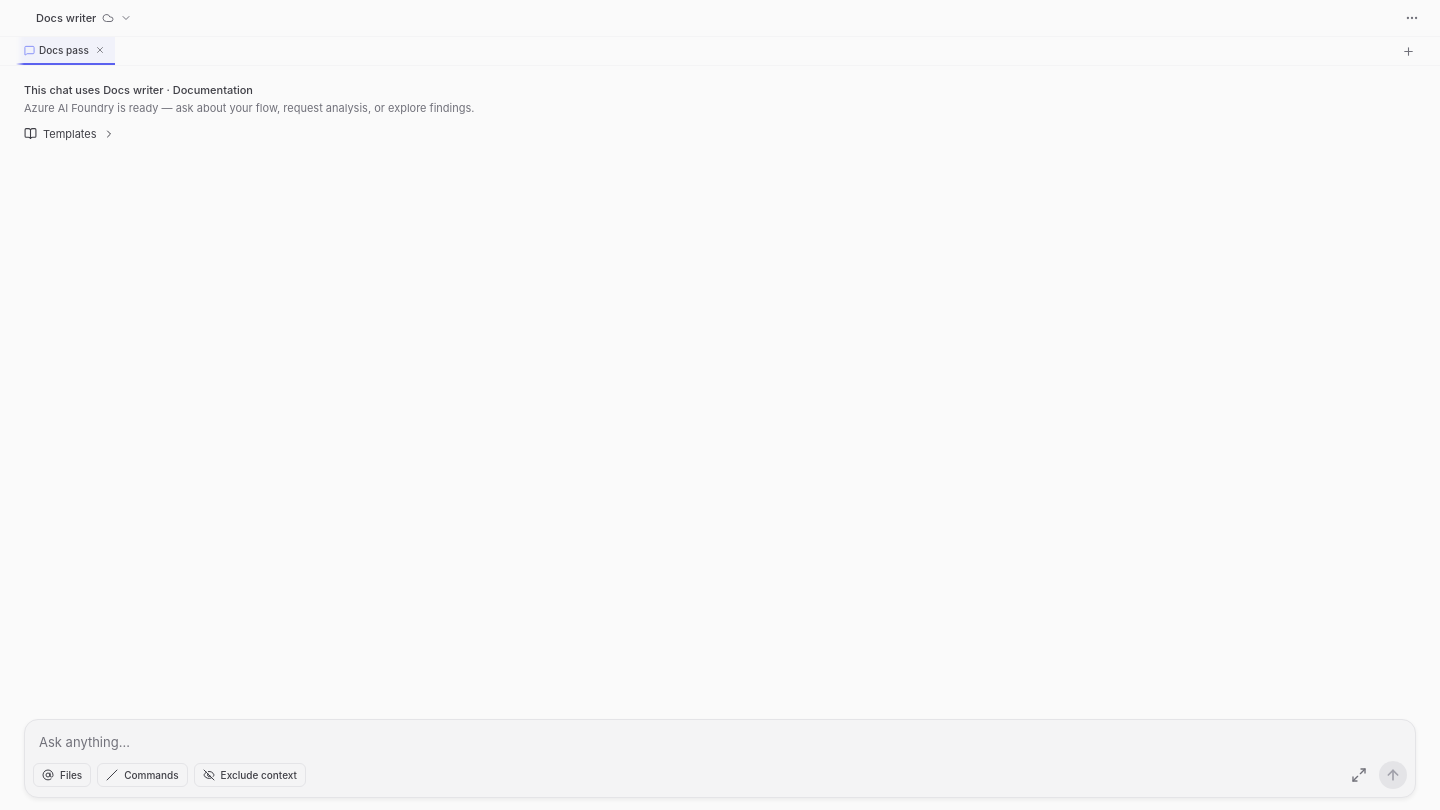
Test: AITab per-thread model › starts a new thread on the Default for new chats; each tab's tooltip names its own model
Click the button named "New chat thread": click(1408, 51) top-left (1396, 39), bottom-right (1420, 63)
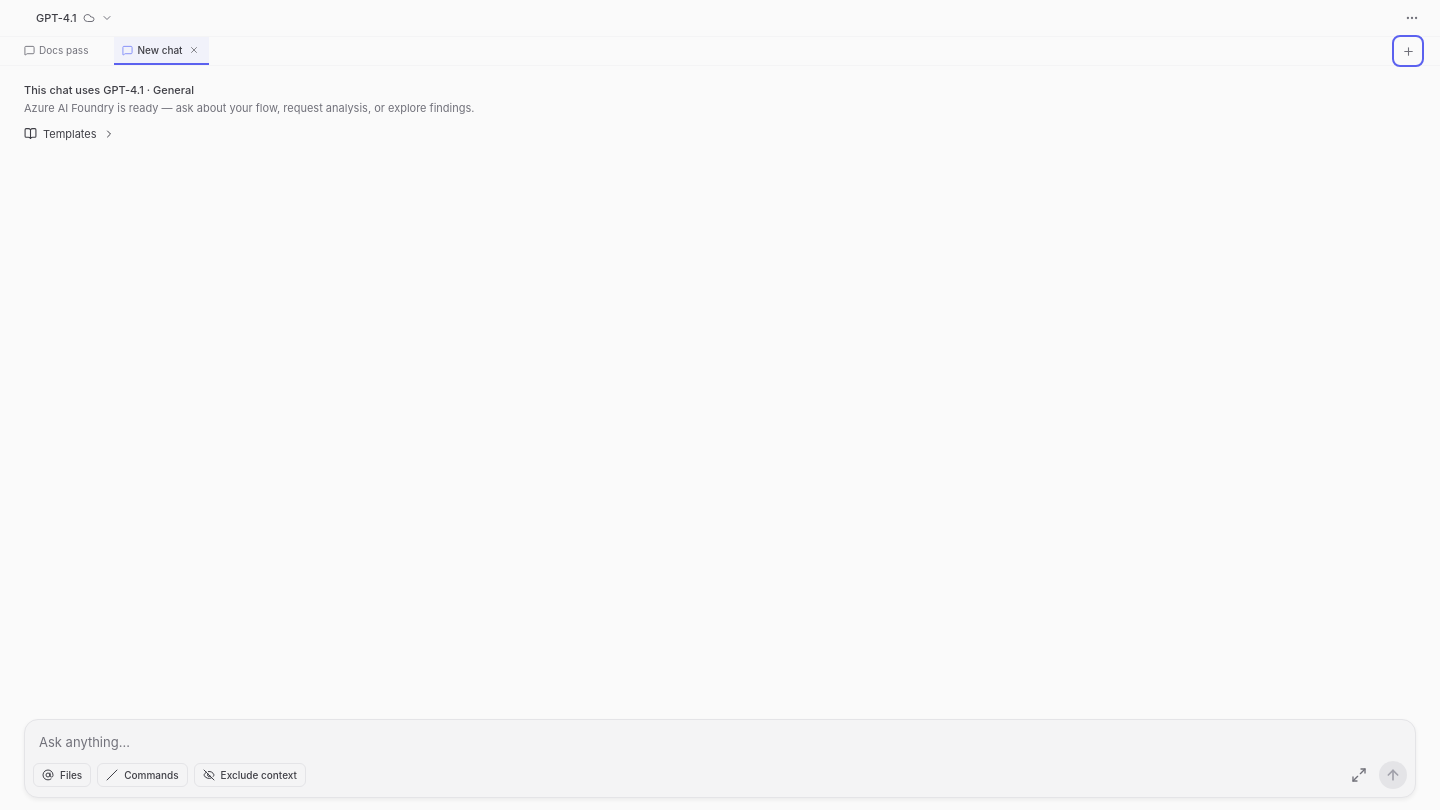
Expected: the text titled "Docs pass — Docs writer · Documentation" is shown, top-left (39, 43), bottom-right (88, 57)
Expected: the text titled "New chat — GPT-4.1 · General" is shown, top-left (137, 43), bottom-right (182, 57)
